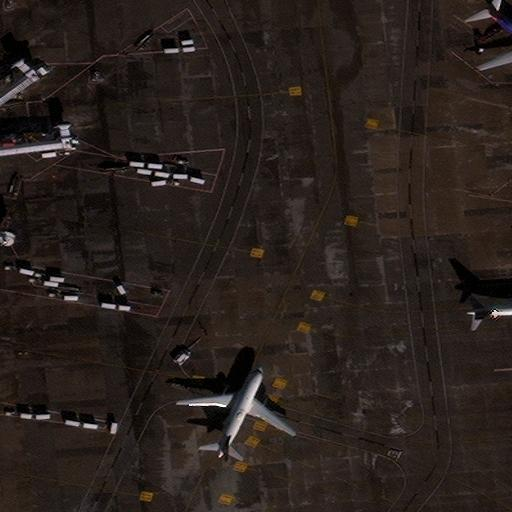Medium Civil Transport: (178, 365, 295, 457), (467, 279, 512, 336), (478, 5, 512, 73)
